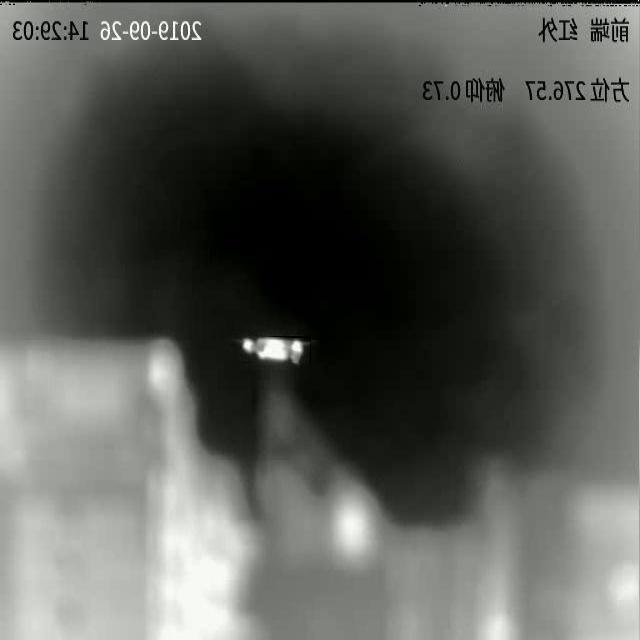drone: (242, 336, 311, 363)
